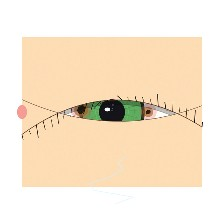foreign_body_visible: (135, 102, 161, 122)
